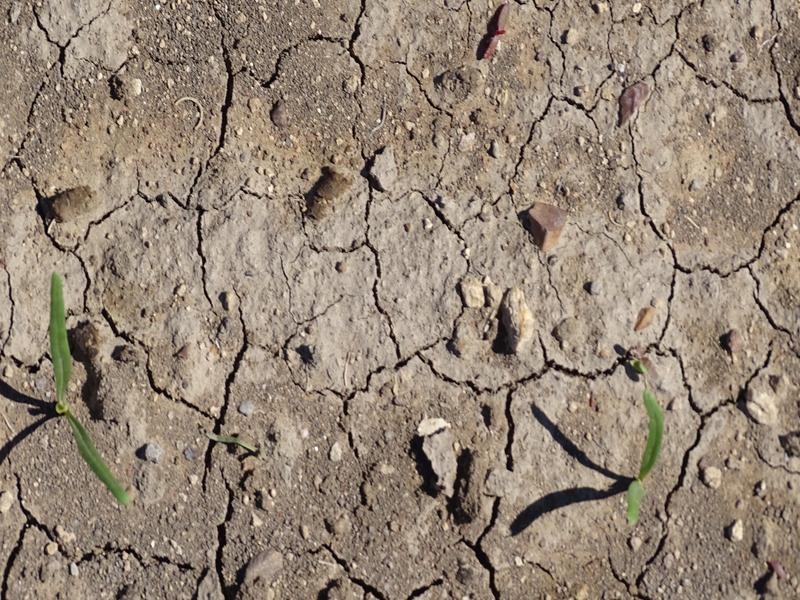Espinaca: (43, 271, 133, 502), (627, 387, 662, 527)
